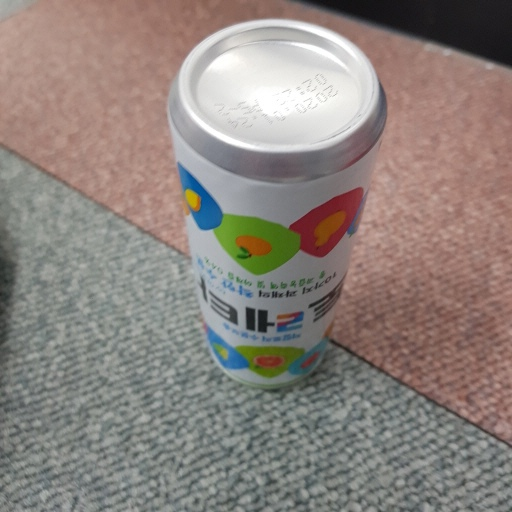Metal_0: (165, 17, 386, 392)
